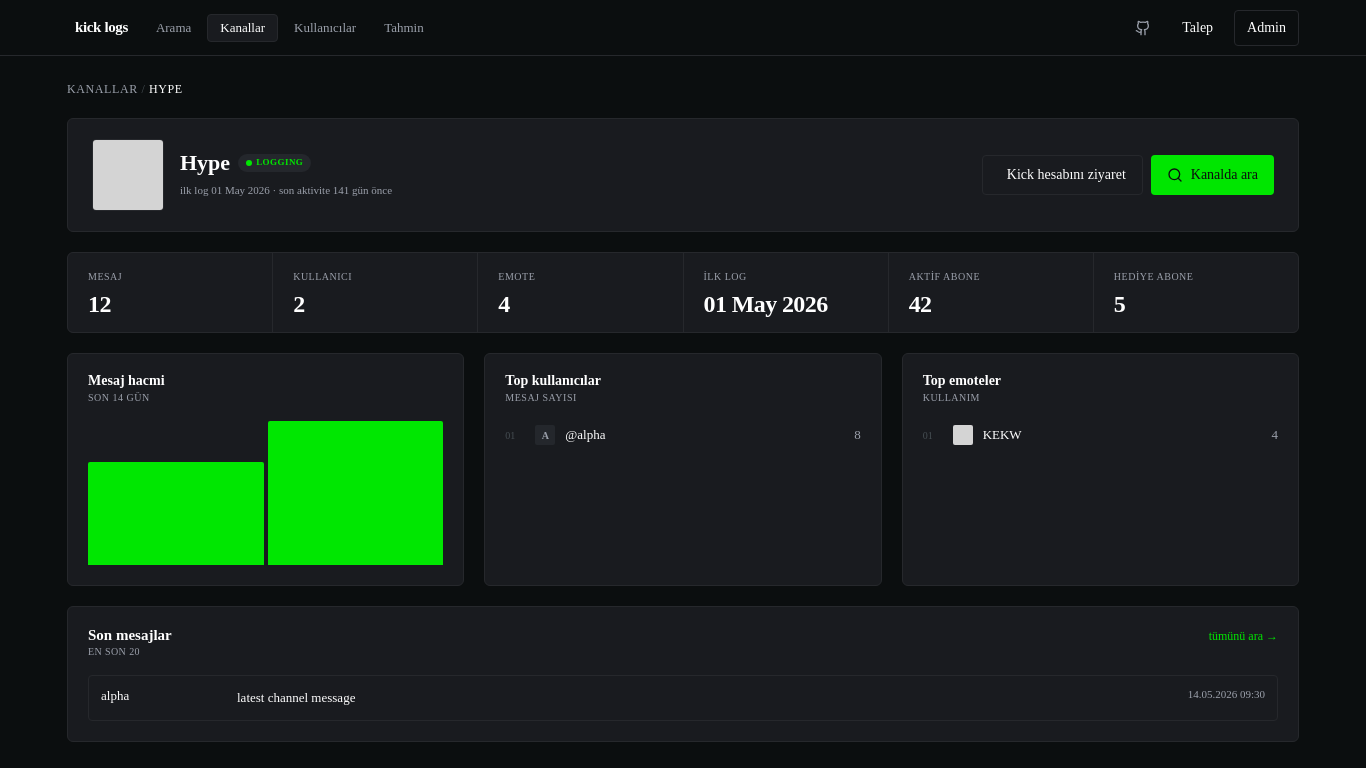
Test: ChannelProfilePage › opens the active subscriber modal from the stat cell
Click the button with aria-label "Aktif aboneleri görüntüle" at (991, 292), box [889,253,1093,332]
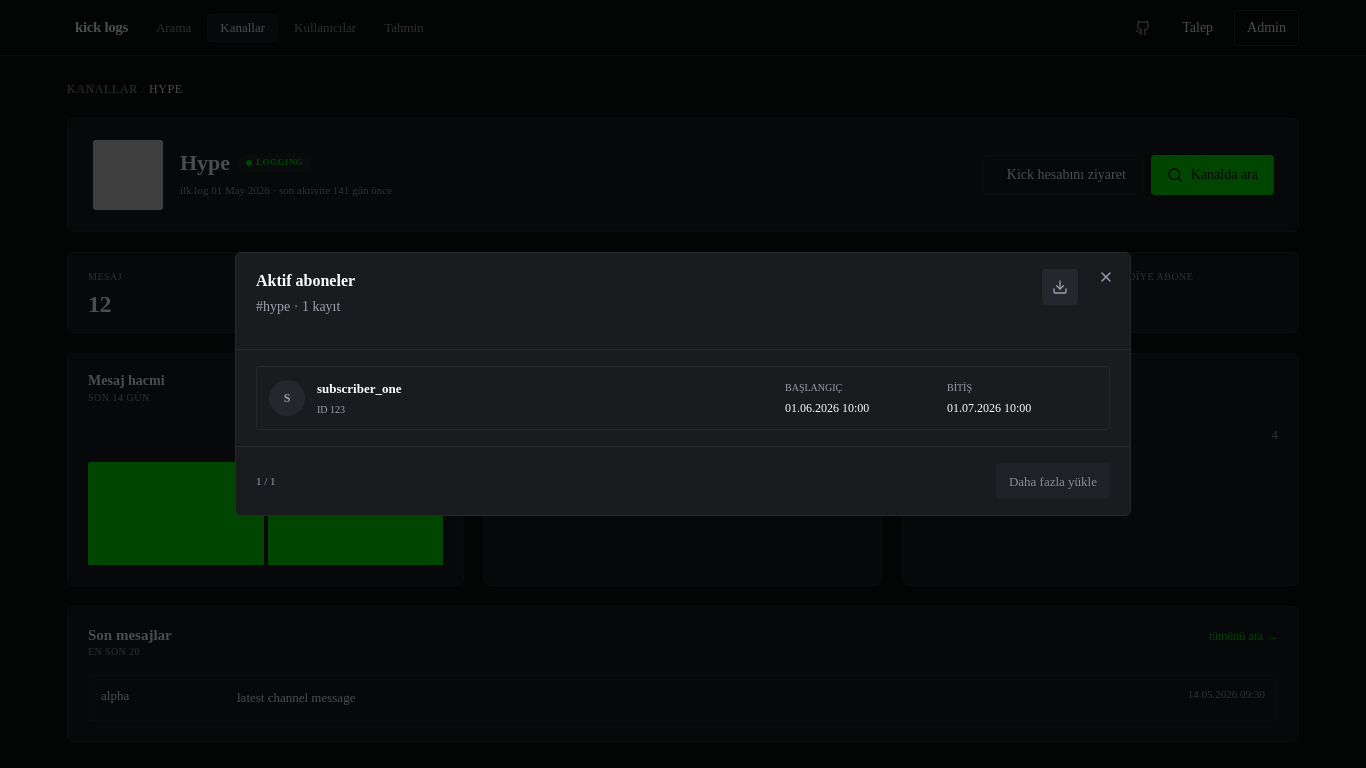
Expected: the heading "Aktif aboneler" is shown, [256,269,355,293]
Expected: the link "subscriber_one" is shown, [317,381,402,396]
